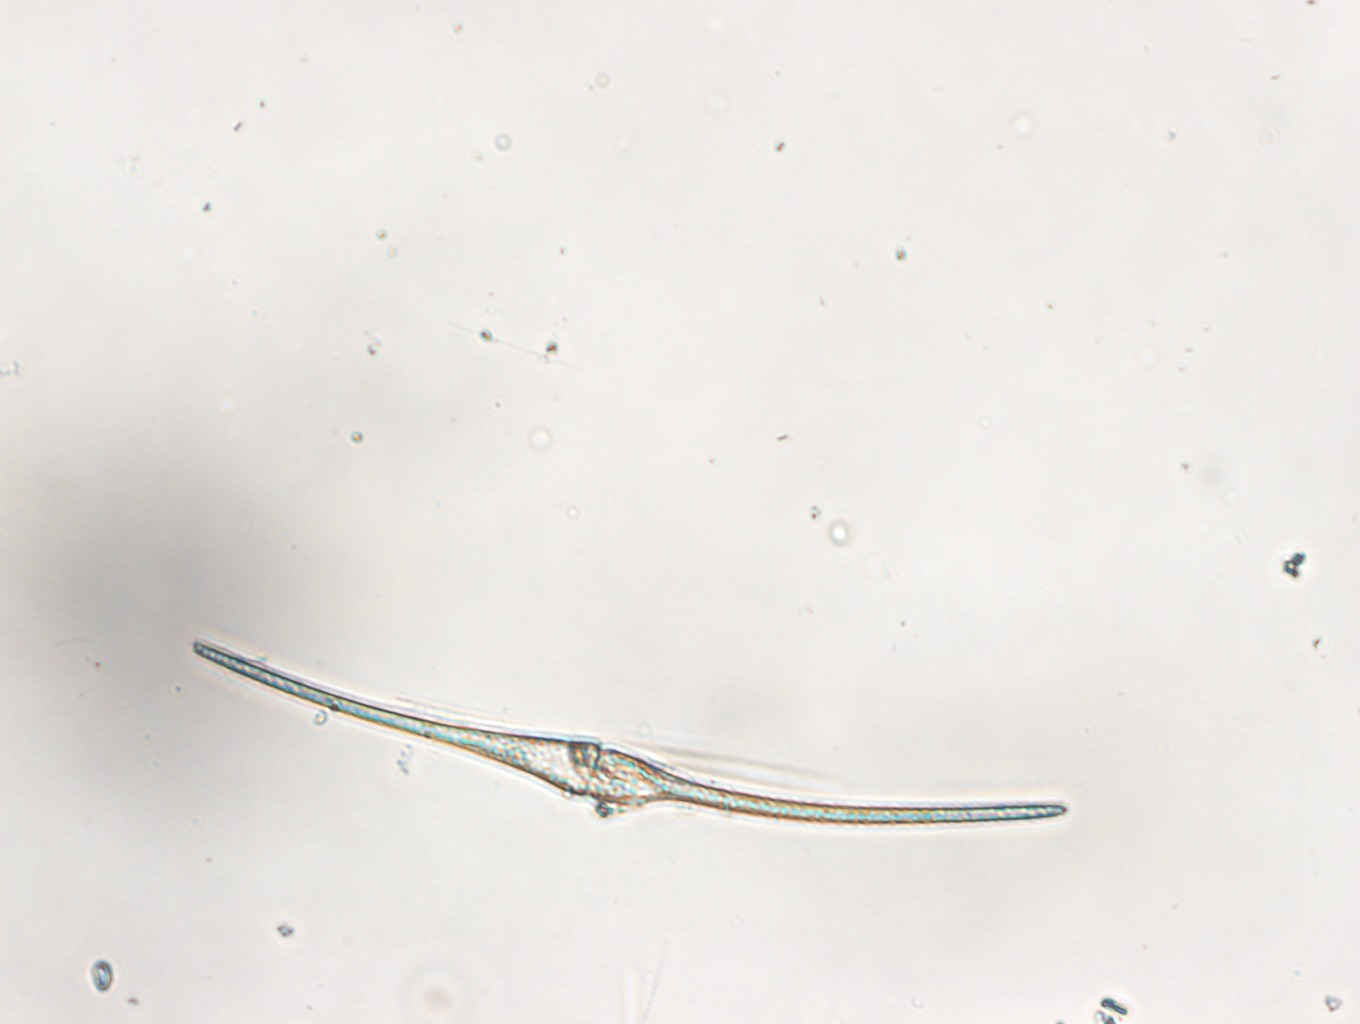ceratium fusus: (188, 639, 1069, 825)
